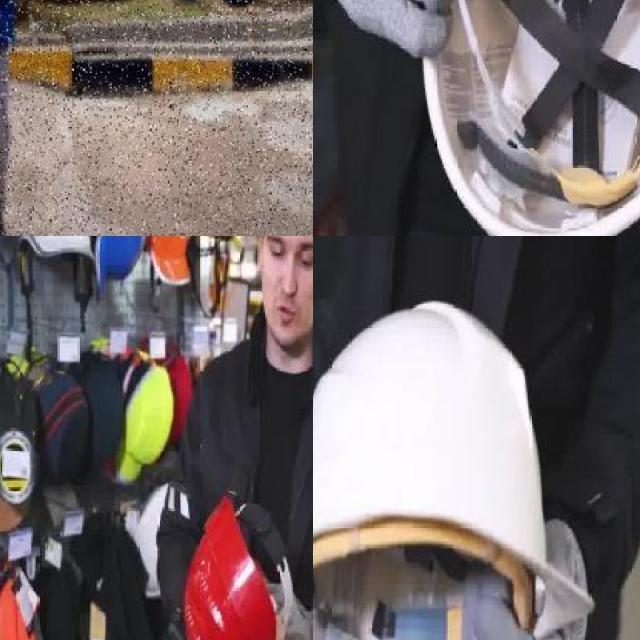apron: (460, 516, 591, 640), (321, 0, 487, 60), (313, 453, 355, 640)
